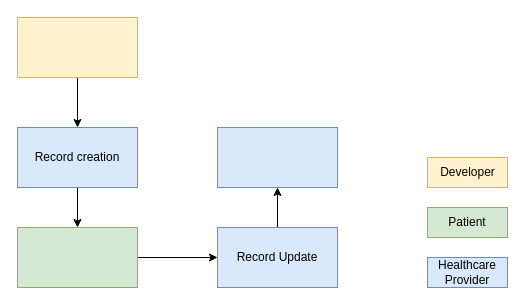
Some shapes in this 525 by 305 pixel diagram are drawn without their labels. Here are the shapes that lost their labels. From the top down, the centre of each, then its label:
point (77, 47): Patient Registration
point (277, 157): Record verification
point (77, 257): Record access
